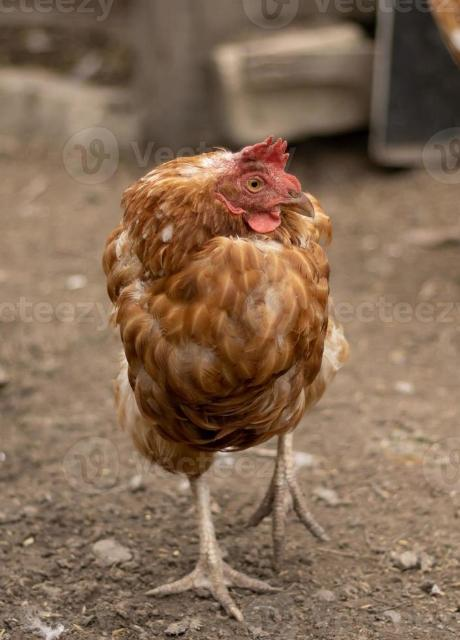Chicken: (102, 133, 352, 611)
